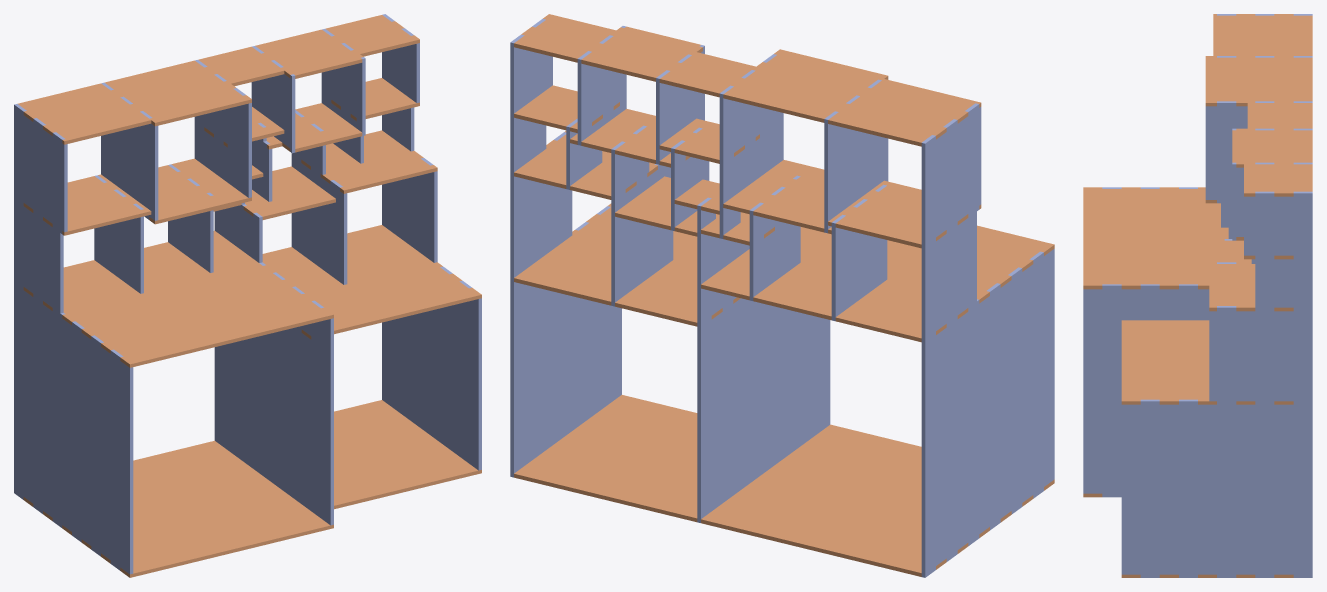
The model's file is shelf.glb.
3 views of the same model, side by side, from view 1: azimuth 30°, elevation 25°; view 2: azimuth 150°, elevation 25°; view 3: azimuth 270°, elevation 25° (orthographic). The views are drawn at different scales.
Parts seen in each view (by area): view 1: walls_y, walls_x; view 2: walls_y, walls_x; view 3: walls_y, walls_x.
Part boxes in pixels (x1,y1,x2,y2): walls_y: (14,14,481,574); walls_x: (17,15,481,577); walls_y: (510,18,1054,577); walls_x: (514,14,1054,576); walls_y: (1083,14,1312,577); walls_x: (1083,14,1312,577).
Size of the model in its own units: 111 by 111 by 60.
